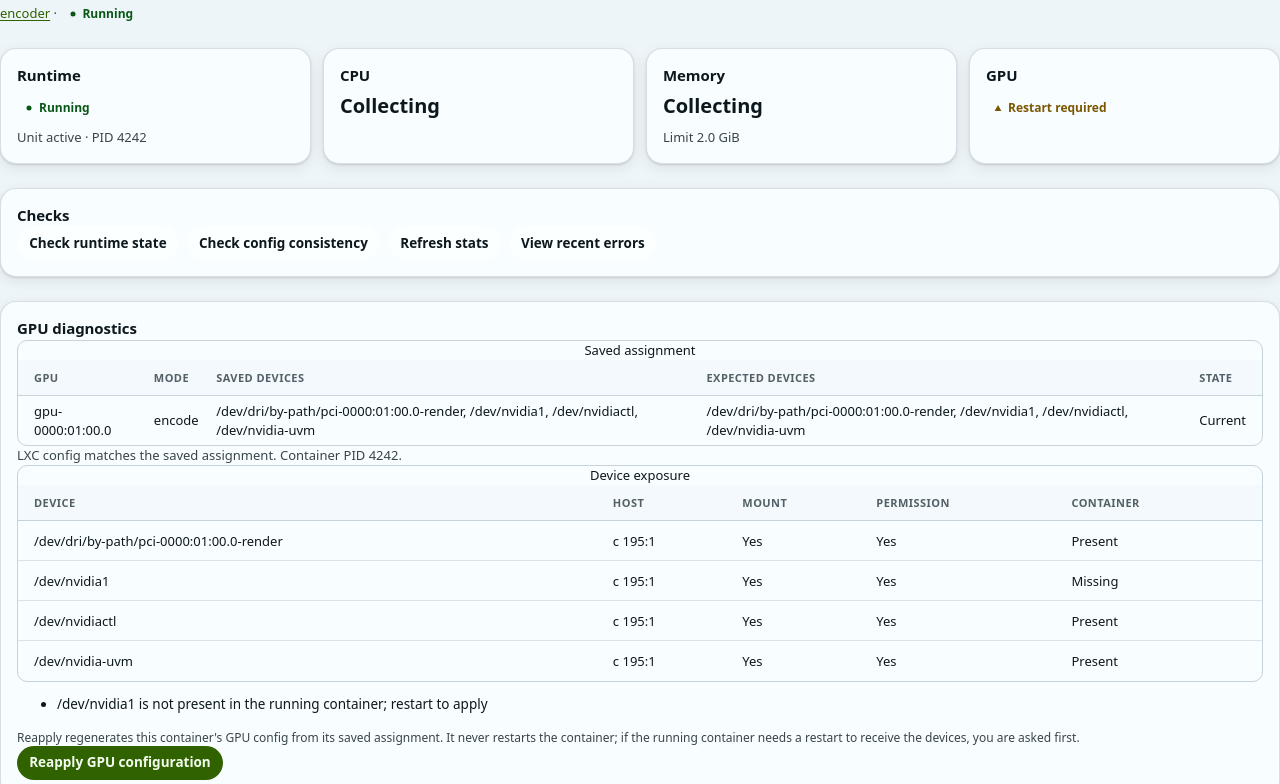
Test: WorkloadDiagnosticsPage › asks before restarting and only reports success once the container has the devices
(page scrolled)
Click the button "Reapply GPU configuration". click: (120, 763)
box: [17,746,223,780]
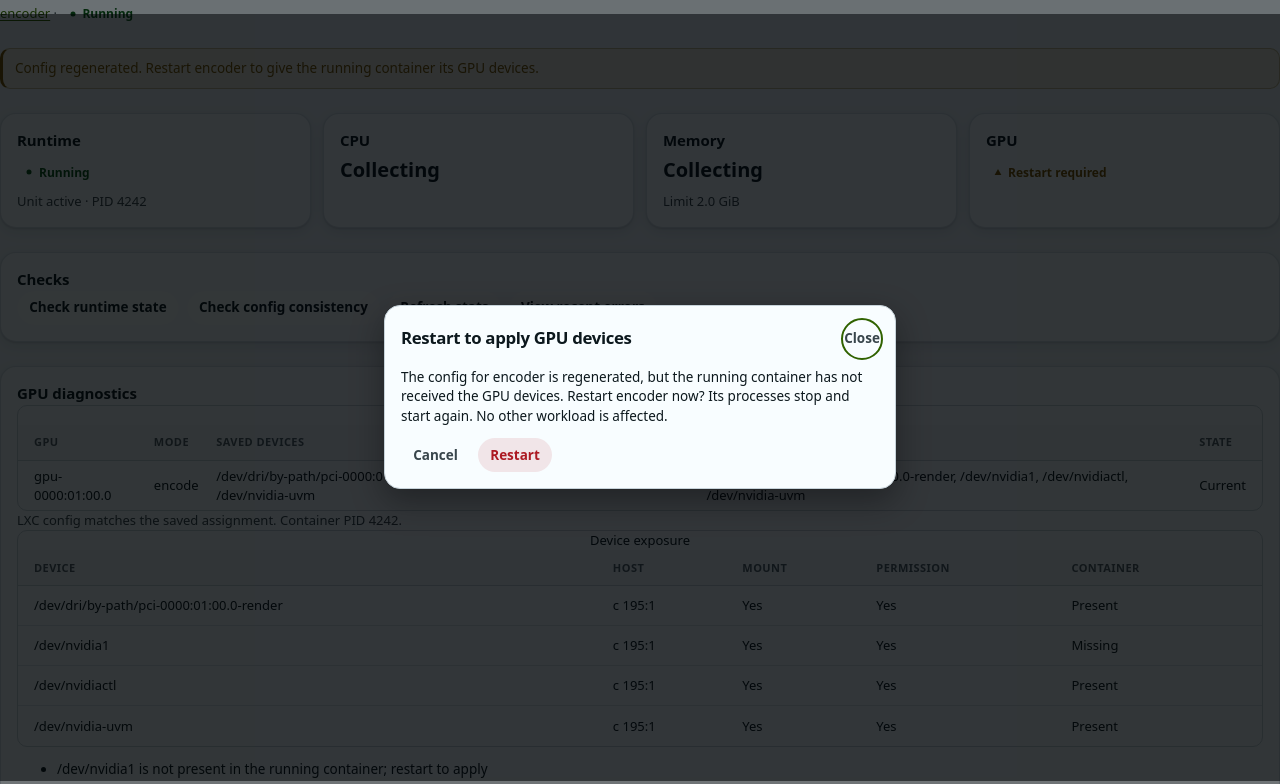
Check: the message shows "Config regenerated", box [15,59,539,77]
Click the button "Restart". click: (515, 455)
box: [478,438,552,472]
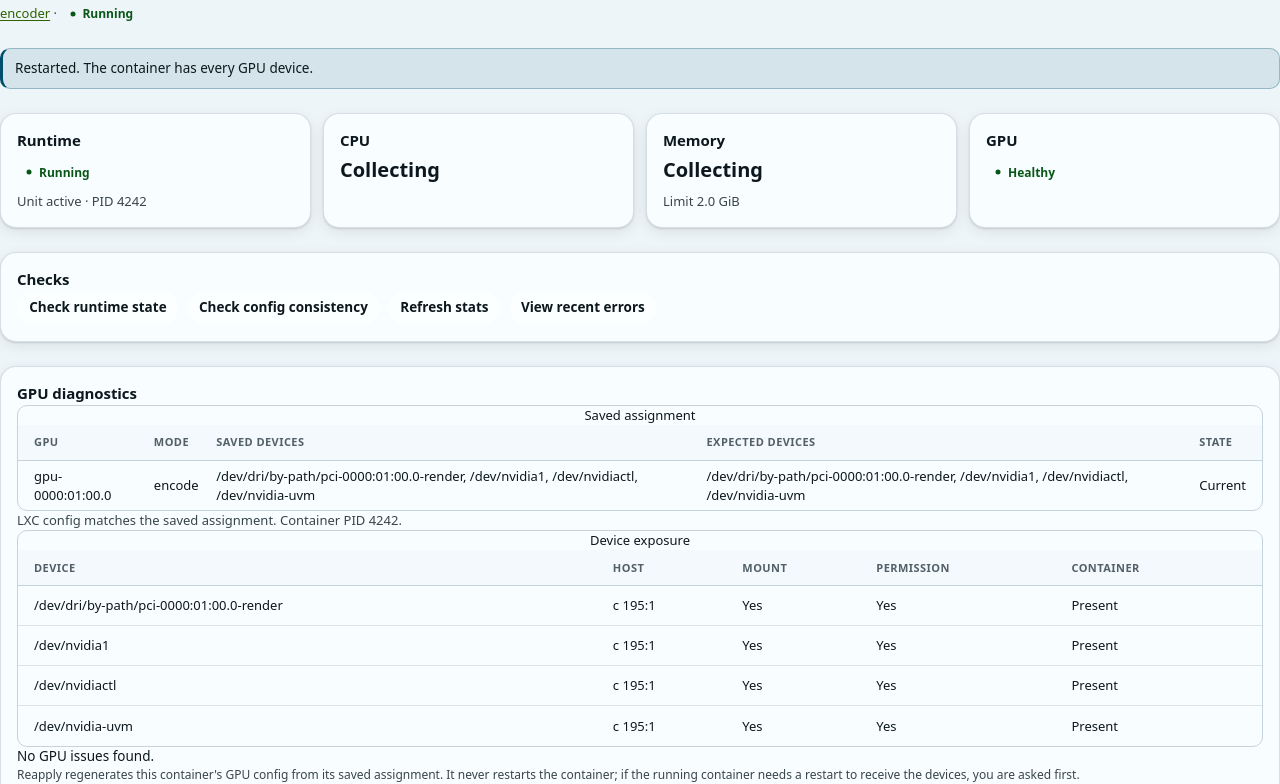
Check: the text "Restarted. The container has every GPU device." is shown, box [0,48,1279,89]
